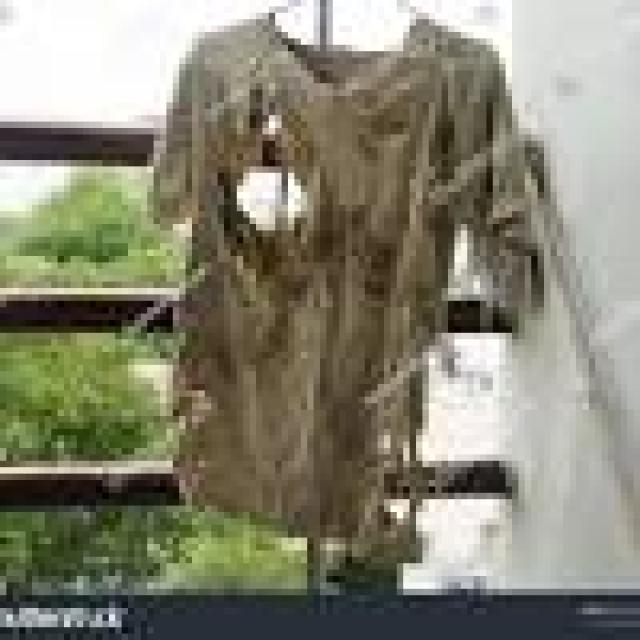Clothes -Biodegradable-: (146, 14, 533, 574)
